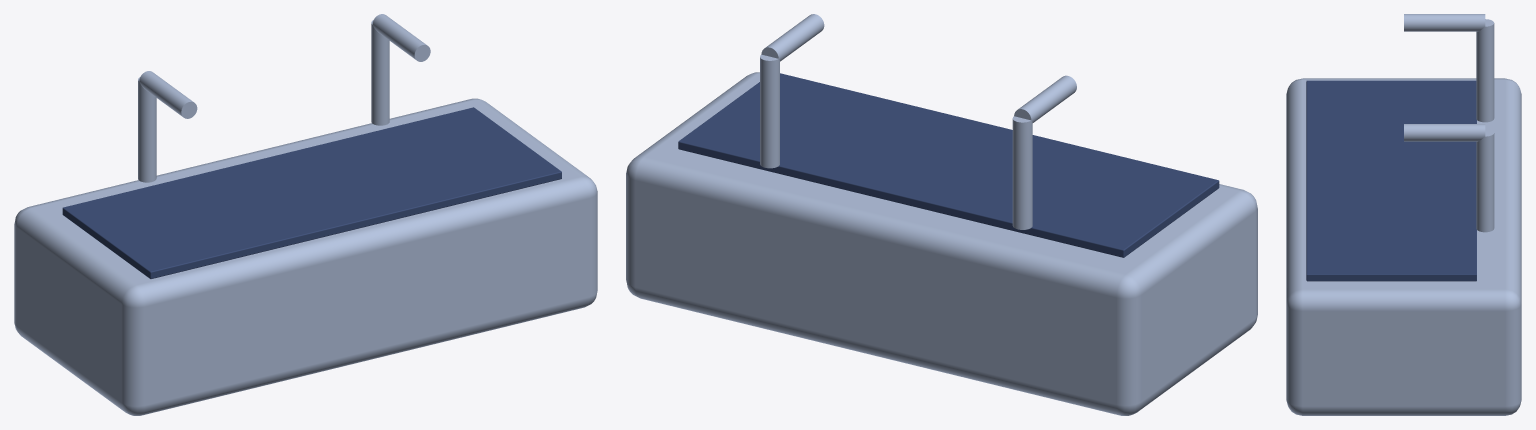
The model's file is sink.glb.
3 views of the same model, side by side, from view 1: azimuth 30°, elevation 25°; view 2: azimuth 150°, elevation 25°; view 3: azimuth 270°, elevation 25° (orthographic). The views are drawn at different scales.
Visible parts, largest first — view 1: wash unit, basin, tap (×4); view 2: wash unit, basin, tap (×4); view 3: wash unit, basin, tap (×4).
Part boxes in pixels (left/top/right/bottom): wash unit: left=14, top=98, right=597, bottom=415; basin: left=62, top=107, right=561, bottom=278; tap (×4): left=138, top=14, right=430, bottom=182; wash unit: left=626, top=72, right=1257, bottom=415; basin: left=678, top=73, right=1219, bottom=257; tap (×4): left=760, top=14, right=1076, bottom=229; wash unit: left=1286, top=78, right=1521, bottom=415; basin: left=1306, top=80, right=1476, bottom=281; tap (×4): left=1404, top=14, right=1494, bottom=232.
Bounding box in the file's own units: 1.3 × 0.652 × 0.58.
